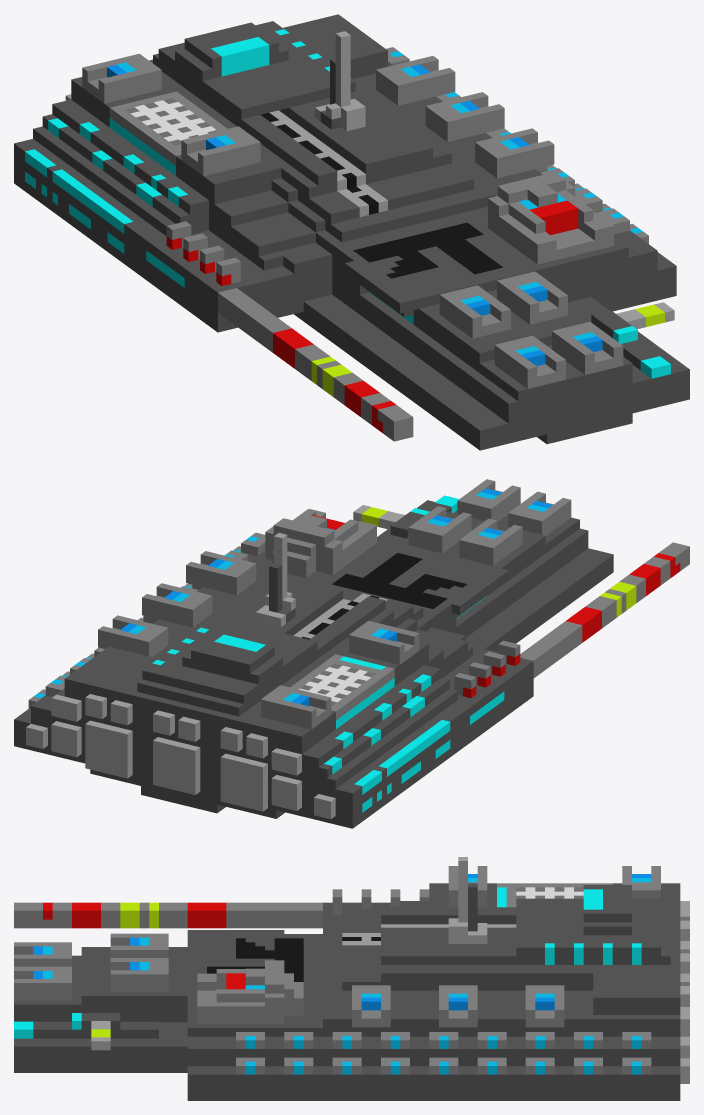
Rendered from Crusier.obj.
The picture shows the model from 3 angles, top to bottom: view 1: azimuth 30°, elevation 25°; view 2: azimuth 150°, elevation 25°; view 3: azimuth 270°, elevation 25°; orthographic projection. The views are drawn at different scales.
Parts seen in each view (by area): view 1: Mesh; view 2: Mesh; view 3: Mesh.
Boxes of the visible parts, x1=… form: Mesh: x1=14, y1=14, x2=689, y2=450; Mesh: x1=14, y1=479, x2=689, y2=828; Mesh: x1=14, y1=857, x2=689, y2=1100.
Size of the model in its own units: 4 by 2.1 by 7.
Materials: 1 (1 with a texture image).
